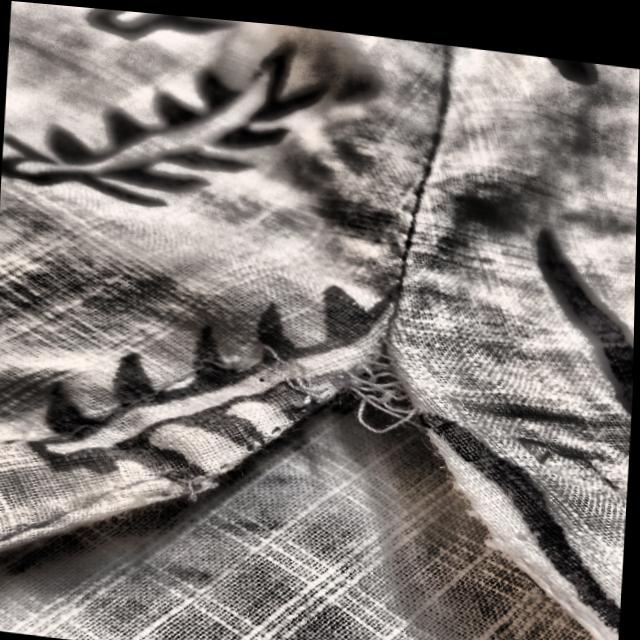Stitch: (209, 305, 449, 454)
